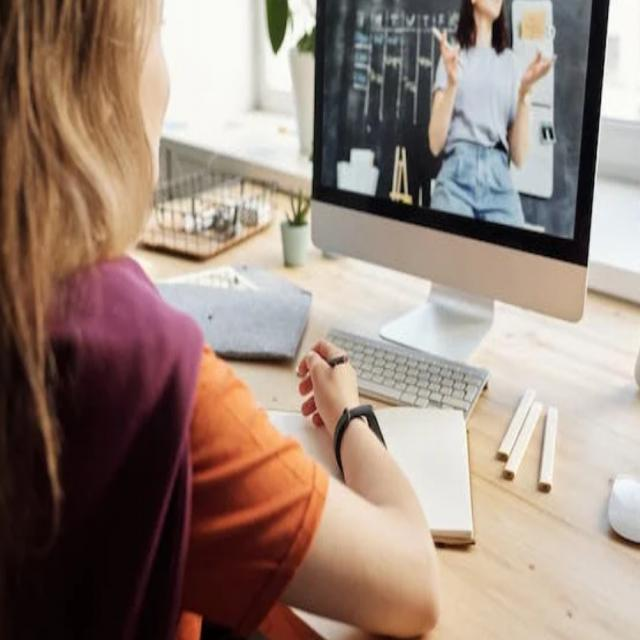Watch: (333, 398, 386, 452)
